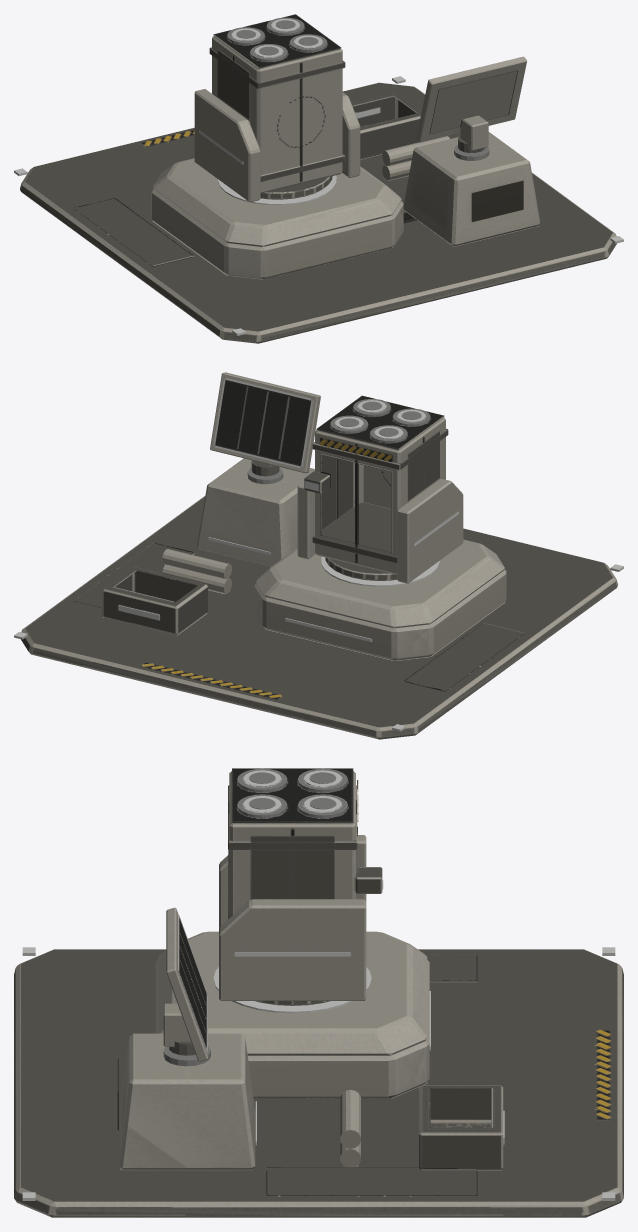
File: ord_aegis.fbx
3 renders of one model, top to bottom at view 1: azimuth 30°, elevation 25°; view 2: azimuth 150°, elevation 25°; view 3: azimuth 270°, elevation 25°, orthographic. The views are drawn at different scales.
Visible parts, largest first — view 1: base_bar, launcher_bar, radar_bar, base_glow_power_bar, launcher_glow_weapon_bar; view 2: base_bar, launcher_bar, radar_bar, base_glow_power_bar, base_glow_running_bar, radar_glow_running_bar, launcher_glow_weapon_bar; view 3: base_bar, launcher_bar, radar_bar, launcher_glow_weapon_bar, base_glow_power_bar, base_glow_running_bar.
Part boxes in pixels (bbox=[...]): base_bar: bbox=[20, 82, 616, 343]; launcher_bar: bbox=[194, 14, 360, 202]; radar_bar: bbox=[416, 56, 526, 152]; base_glow_power_bar: bbox=[218, 107, 380, 205]; launcher_glow_weapon_bar: bbox=[232, 18, 322, 57]; base_bar: bbox=[21, 458, 617, 739]; launcher_bar: bbox=[297, 395, 463, 583]; radar_bar: bbox=[210, 372, 320, 476]; base_glow_power_bar: bbox=[118, 556, 439, 620]; base_glow_running_bar: bbox=[14, 537, 623, 731]; radar_glow_running_bar: bbox=[213, 378, 313, 468]; launcher_glow_weapon_bar: bbox=[335, 400, 425, 439]; base_bar: bbox=[14, 931, 623, 1217]; launcher_bar: bbox=[219, 768, 382, 1005]; radar_bar: bbox=[163, 907, 207, 1061]; launcher_glow_weapon_bar: bbox=[243, 770, 341, 812]; base_glow_power_bar: bbox=[213, 967, 504, 1144]; base_glow_running_bar: bbox=[22, 947, 615, 1200].
Size of the model in its own units: 2315 by 1313 by 2315.
Materials: 2 (2 with a texture image).
